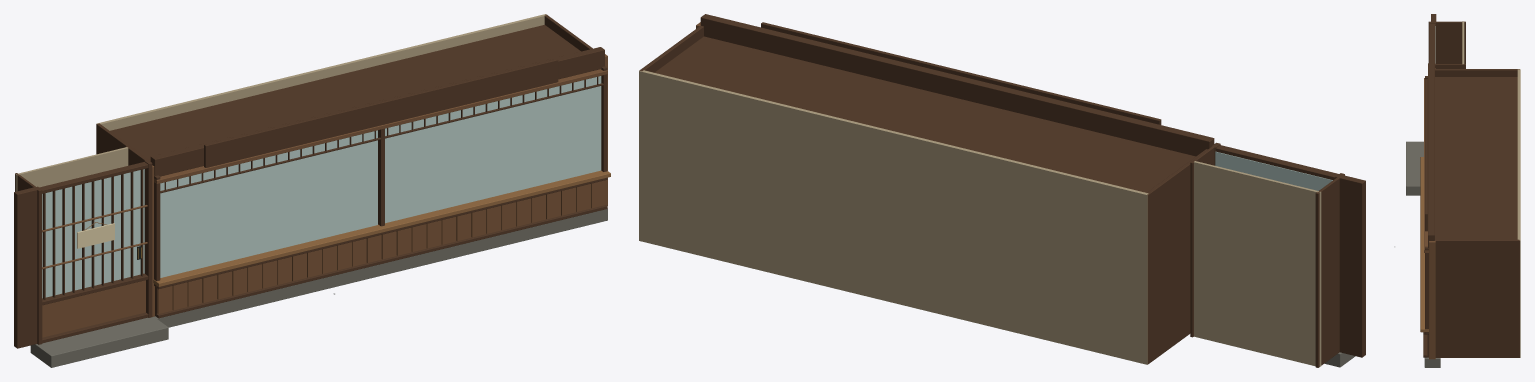
The model's file is japan_kit35_book_stationery1.fbx.
The picture shows the model from 3 angles, left to right: view 1: azimuth 30°, elevation 25°; view 2: azimuth 150°, elevation 25°; view 3: azimuth 270°, elevation 25°; orthographic projection. The views are drawn at different scales.
Visible parts, largest first — view 1: B1_Glazing0_Glass, B1_Glazing1_Glass, B1_DisplayCeiling_Walnut, B1_BaseBoards_Cedar, B1_MainSign_Walnut, B1_DoorGlass_Glass, B1_StonePlinth_Stone, B1_DisplayBack_Wall, B1_WindowSill_HinokiEdge, B1_DoorSideFill_Walnut, B1_DoorSlats_Walnut, B1_BaseRails_Walnut (+14 smaller); view 2: B1_DisplayBack_Wall, B1_DisplayCeiling_Walnut, B1_DoorBack_Wall, B1_Header_Walnut, B1_Returns_Walnut, B1_DoorAlcoveReturns_Walnut, B1_DoorSideFill_Walnut, B1_MainSign_Walnut, B1_DoorGlass_Glass, B1_DoorRails_Walnut; view 3: B1_DisplayCeiling_Walnut, B1_Returns_Walnut, B1_DoorAlcoveReturns_Walnut, B1_Header_Walnut, B1_Threshold_Stone, B1_JointClosures_Cedar, B1_DisplayBack_Wall, B1_WindowSill_HinokiEdge, B1_MainSign_Walnut, B1_WindowPosts_Walnut, B1_DoorRails_Walnut, B1_WindowRails_Cedar (+2 smaller).
Part boxes in pixels (x1=…): B1_Glazing0_Glass: x1=160, y1=130, x2=377, y2=277; B1_Glazing1_Glass: x1=385, y1=76, x2=601, y2=223; B1_DisplayCeiling_Walnut: x1=110, y1=24, x2=580, y2=160; B1_BaseBoards_Cedar: x1=157, y1=180, x2=605, y2=313; B1_MainSign_Walnut: x1=204, y1=59, x2=558, y2=167; B1_DoorGlass_Glass: x1=42, y1=169, x2=144, y2=298; B1_StonePlinth_Stone: x1=154, y1=208, x2=607, y2=327; B1_DisplayBack_Wall: x1=96, y1=14, x2=545, y2=130; B1_WindowSill_HinokiEdge: x1=153, y1=170, x2=610, y2=286; B1_DoorSideFill_Walnut: x1=14, y1=187, x2=37, y2=348; B1_DoorSlats_Walnut: x1=43, y1=169, x2=143, y2=299; B1_BaseRails_Walnut: x1=156, y1=177, x2=607, y2=318; B1_DisplayBack_Wall: x1=639, y1=70, x2=1148, y2=364; B1_DisplayCeiling_Walnut: x1=654, y1=36, x2=1195, y2=192; B1_DoorBack_Wall: x1=1194, y1=161, x2=1321, y2=367; B1_Header_Walnut: x1=700, y1=14, x2=1214, y2=156; B1_Returns_Walnut: x1=639, y1=26, x2=1207, y2=364; B1_DoorAlcoveReturns_Walnut: x1=1190, y1=146, x2=1339, y2=367; B1_DoorSideFill_Walnut: x1=1339, y1=175, x2=1365, y2=357; B1_MainSign_Walnut: x1=761, y1=22, x2=1161, y2=124; B1_DoorGlass_Glass: x1=1215, y1=151, x2=1332, y2=190; B1_DoorRails_Walnut: x1=1216, y1=145, x2=1338, y2=179; B1_DisplayCeiling_Walnut: x1=1435, y1=77, x2=1517, y2=239; B1_Returns_Walnut: x1=1435, y1=69, x2=1519, y2=357; B1_DoorAlcoveReturns_Walnut: x1=1435, y1=21, x2=1465, y2=68; B1_Header_Walnut: x1=1428, y1=63, x2=1434, y2=247; B1_Threshold_Stone: x1=1406, y1=141, x2=1423, y2=195; B1_JointClosures_Cedar: x1=1429, y1=68, x2=1435, y2=359; B1_DisplayBack_Wall: x1=1517, y1=69, x2=1520, y2=357; B1_WindowSill_HinokiEdge: x1=1420, y1=157, x2=1428, y2=332; B1_MainSign_Walnut: x1=1425, y1=79, x2=1427, y2=231; B1_WindowPosts_Walnut: x1=1425, y1=76, x2=1428, y2=334; B1_DoorRails_Walnut: x1=1429, y1=23, x2=1435, y2=63; B1_WindowRails_Cedar: x1=1424, y1=78, x2=1428, y2=252.
Size of the model in its own units: 29.59 by 8.28 by 7.01.
